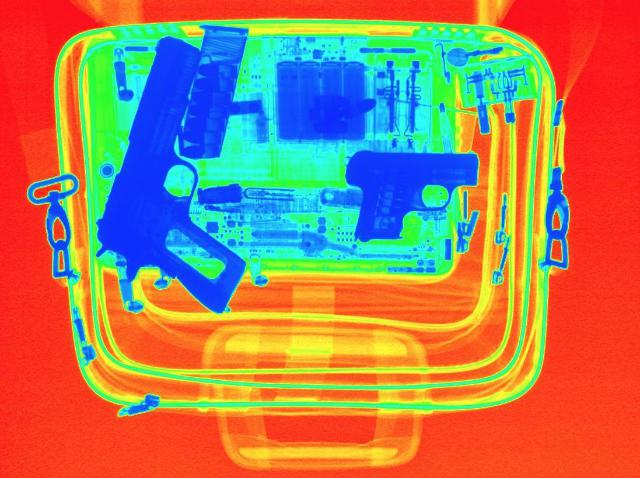Gun: (88, 32, 250, 330), (340, 148, 480, 240)
